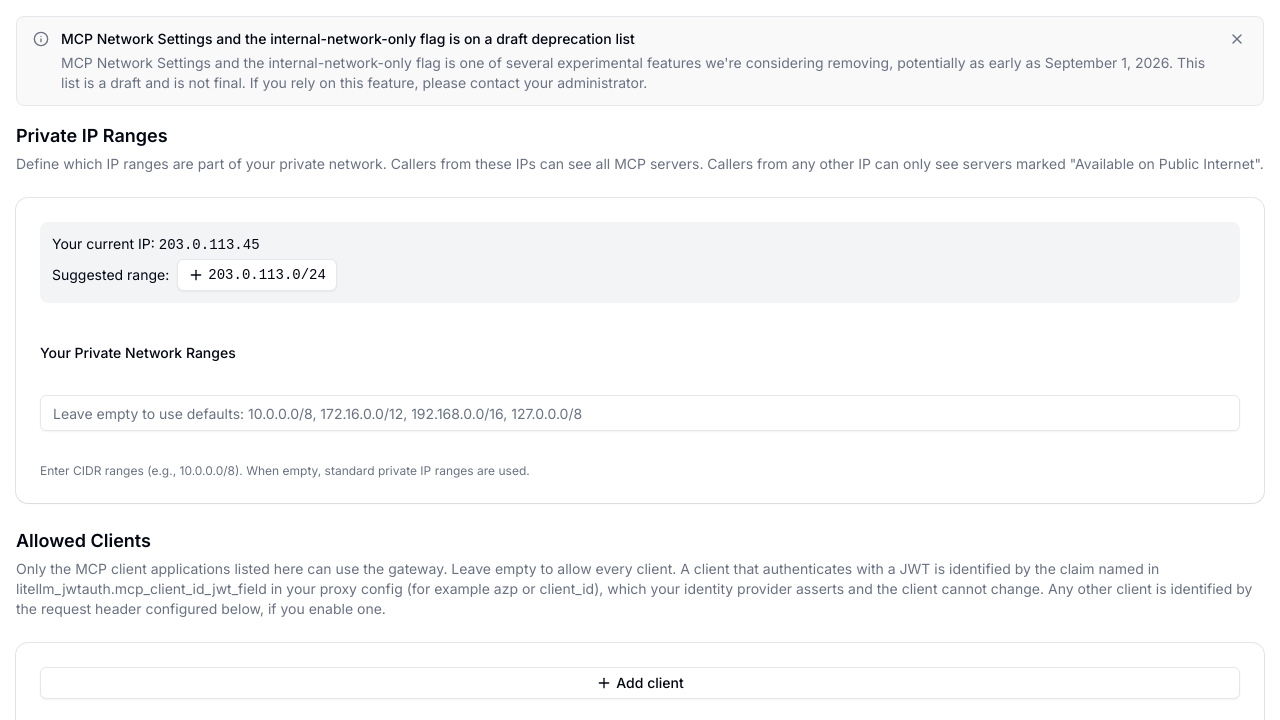
it: MCPNetworkSettings › adds the suggested range to the list when clicked, and stops suggesting it
Click the button "203.0.113.0/24".
click(257, 275)  # box x1=177 y1=259 x2=337 y2=291
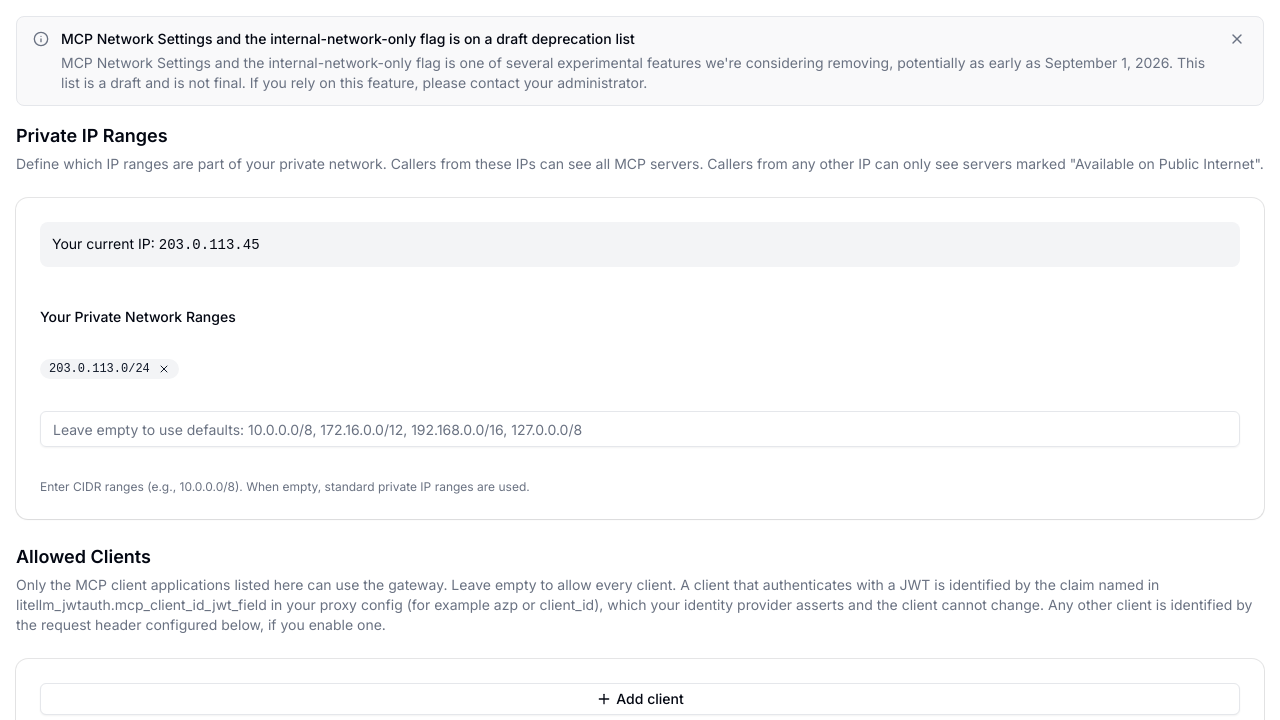
Check: the text "203.0.113.0/24" is shown, box x1=40 y1=359 x2=179 y2=379
Check: the text "Suggested range:" is gone
